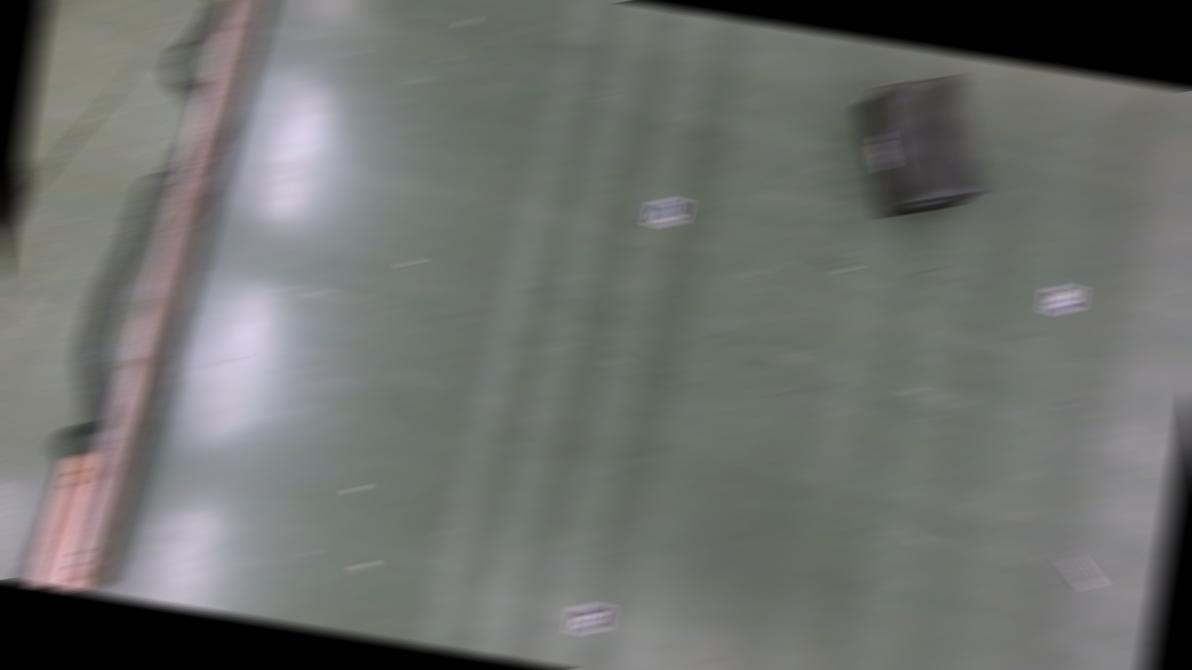probes: (1056, 553, 1107, 589)
rako: (839, 62, 1004, 232)
